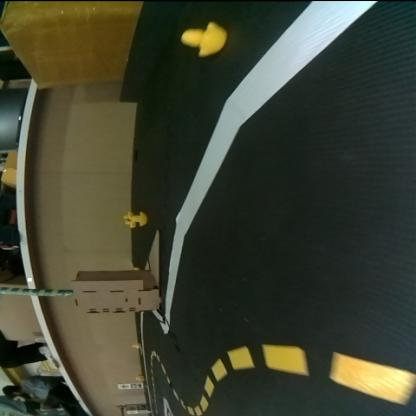Duckie: (180, 24, 226, 57), (133, 211, 147, 226), (124, 221, 134, 226), (131, 342, 139, 348), (123, 213, 131, 219), (135, 375, 144, 380)
Intersection sign: (118, 384, 128, 389)
QR code: (130, 384, 140, 388)
